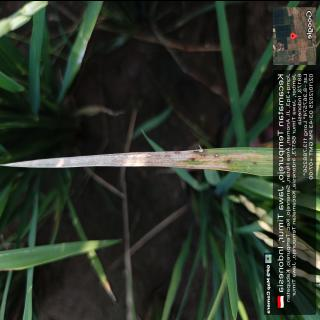Hawar-Daun: (6, 149, 260, 168)
